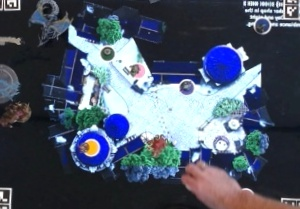blue: (254, 15, 275, 35)
green: (98, 43, 118, 65)
pink: (127, 60, 147, 80)
violet: (175, 73, 197, 98)
yellow: (79, 134, 102, 156)
